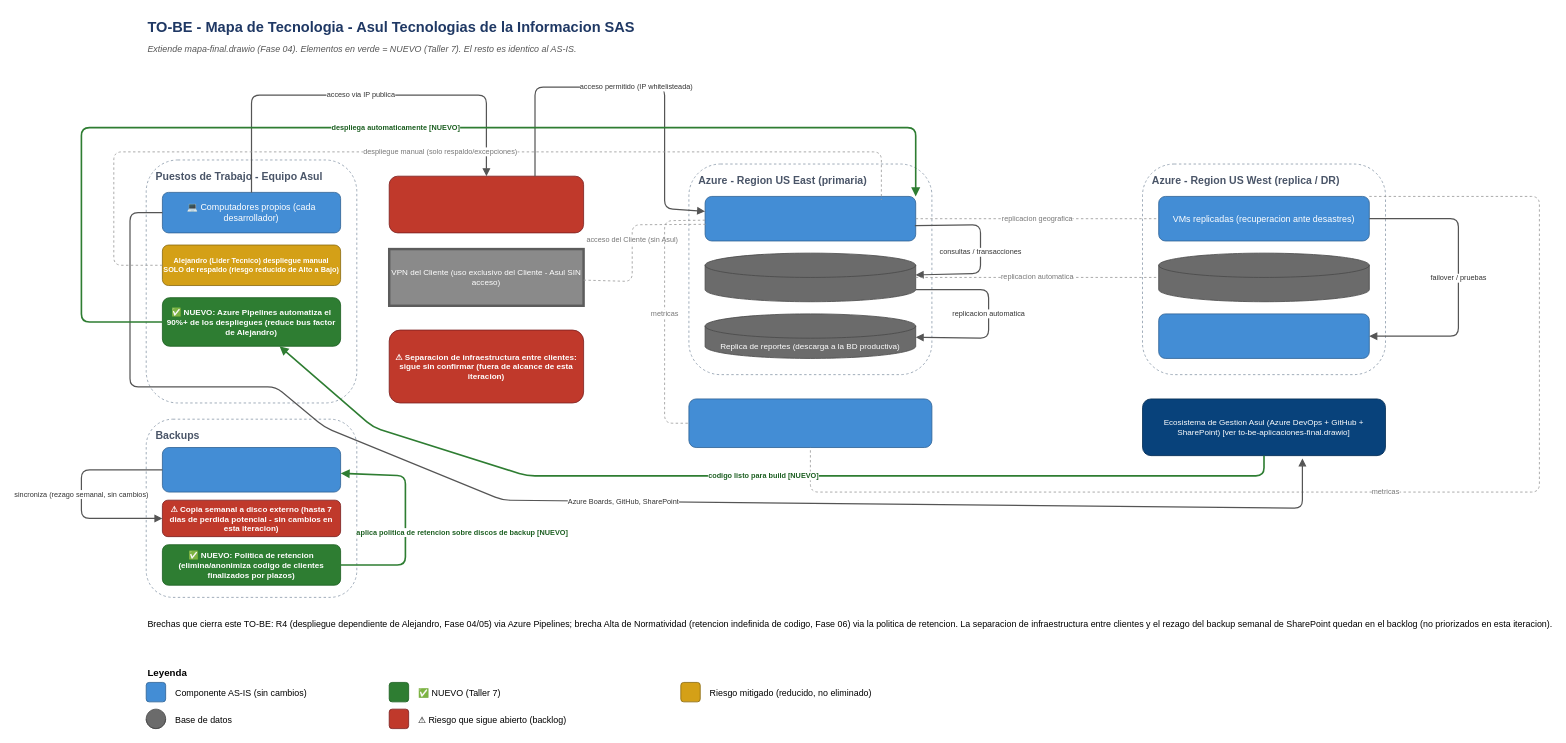
The diagram is 1566 pixels wide and 743 high, and some of its shapes have lost their labels. Here are the shapes that lost their labels. From the top down, the centre of each, then its label:
At (486,204): "⚠ Firewall del Cliente (IPs fijas / whitelist - por proyecto)".
At (810,218): "VMs - Ambiente de Produccion (por proyecto de cliente)".
At (810,277): "Azure SQL Database (primaria)".
At (1263,277): "Azure SQL Database (replica disponible)".
At (1263,335): "Pruebas periodicas de Disaster Recovery (manuales)".
At (810,423): "Azure Monitor (metricas e informes de infraestructura)".
At (251,469): "💻 Equipo-servidor de sincronizacion (descarga SharePoint a disco local)".
